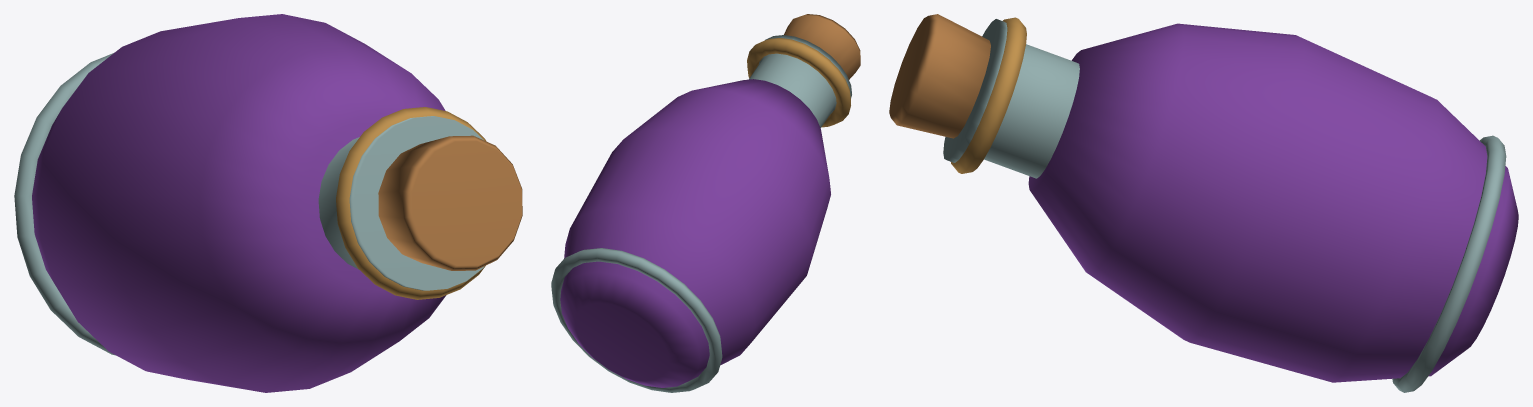
The model's file is rejuv_m.glb.
The picture shows the model from 3 angles, left to right: view 1: azimuth 30°, elevation 25°; view 2: azimuth 150°, elevation 25°; view 3: azimuth 270°, elevation 25°; orthographic projection. The views are drawn at different scales.
Visible parts, largest first — view 1: SM_rejuv_m; view 2: SM_rejuv_m; view 3: SM_rejuv_m.
Part boxes in pixels (x1,y1,x2,y2): SM_rejuv_m: (14,14,522,392); SM_rejuv_m: (551,14,860,392); SM_rejuv_m: (889,14,1518,392).
Bounding box in the file's own units: 0.243 × 0.2944 × 0.4672.
